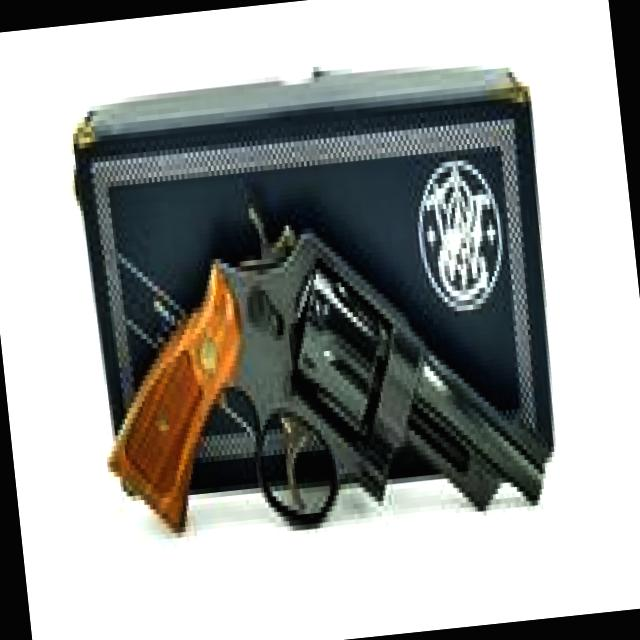revolver: (64, 135, 570, 589)
